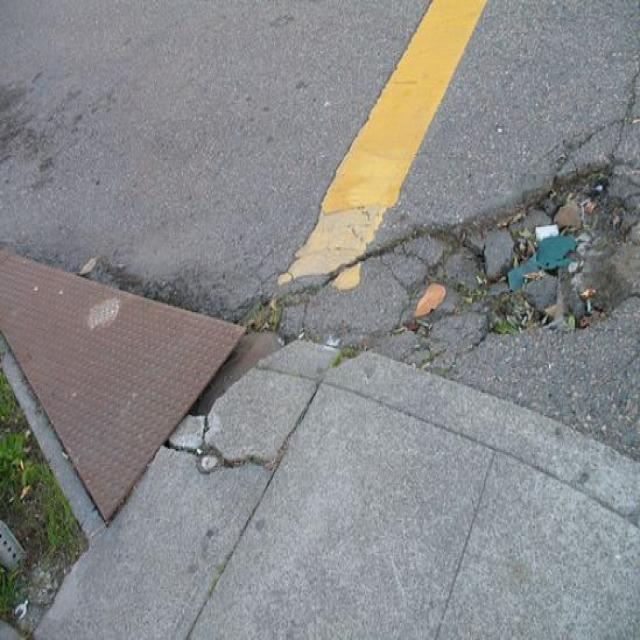pothole: (443, 162, 639, 342)
